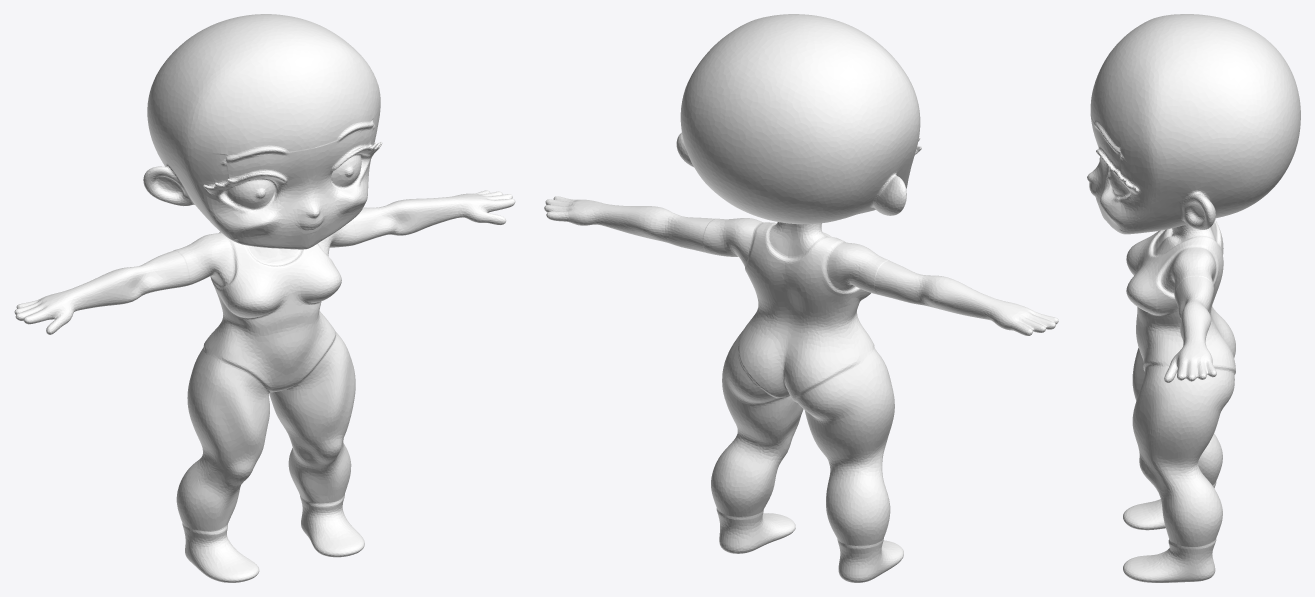
File: Full_base_female_phalanx.glb
3 renders of one model, left to right at view 1: azimuth 30°, elevation 25°; view 2: azimuth 150°, elevation 25°; view 3: azimuth 270°, elevation 25°, orthographic. The views are drawn at different scales.
Parts seen in each view (by area): view 1: MeshEditorResult; view 2: MeshEditorResult; view 3: MeshEditorResult.
Boxes of the visible parts, x1,y1,x2,y2 form: MeshEditorResult: (14,14,515,582); MeshEditorResult: (544,14,1058,582); MeshEditorResult: (1087,14,1300,582).
Size of the model in its own units: 1.97 by 1.97 by 0.7333.
1 material, 1 textured.
